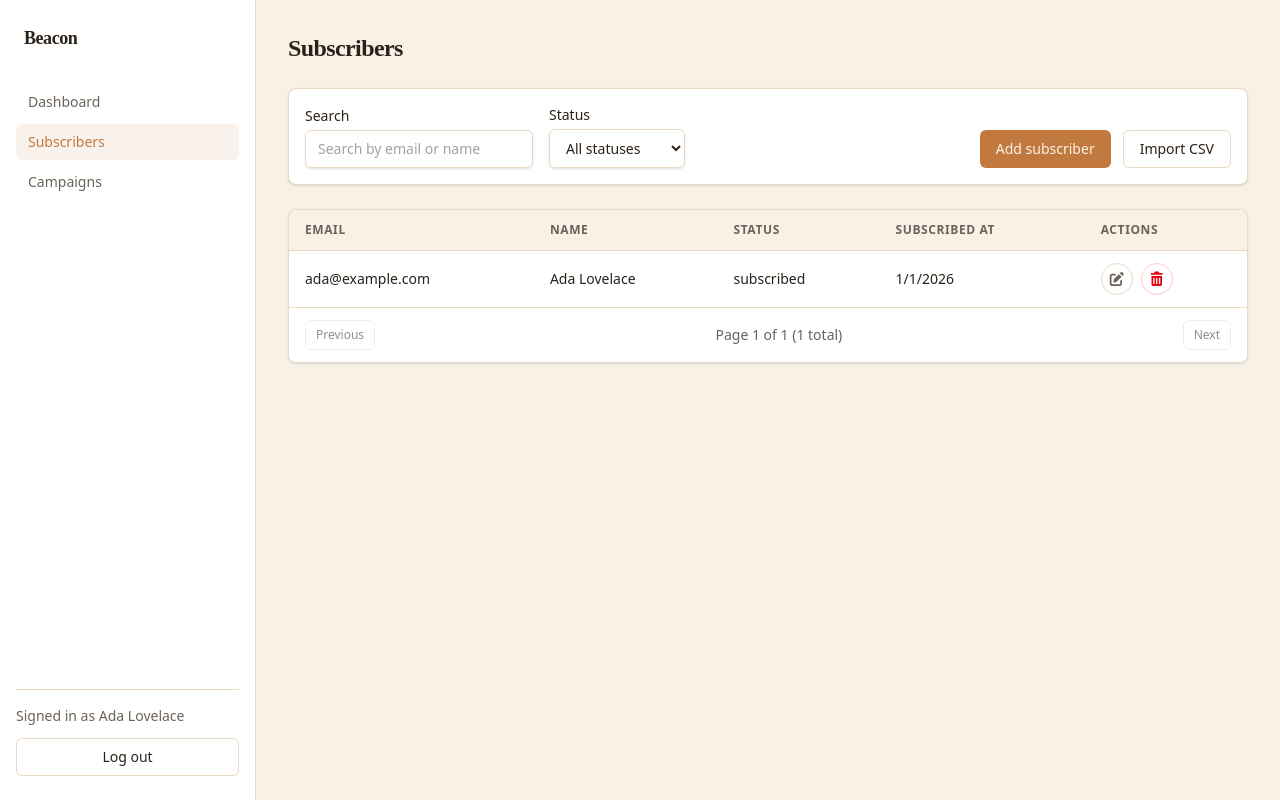
Test: SubscriberListPage › requires confirmation before deleting a subscriber
Check: the text "ada@example.com" is shown, box [289,250,534,307]
Click the button named "Delete" at (1157, 279), box [1141,263,1173,295]
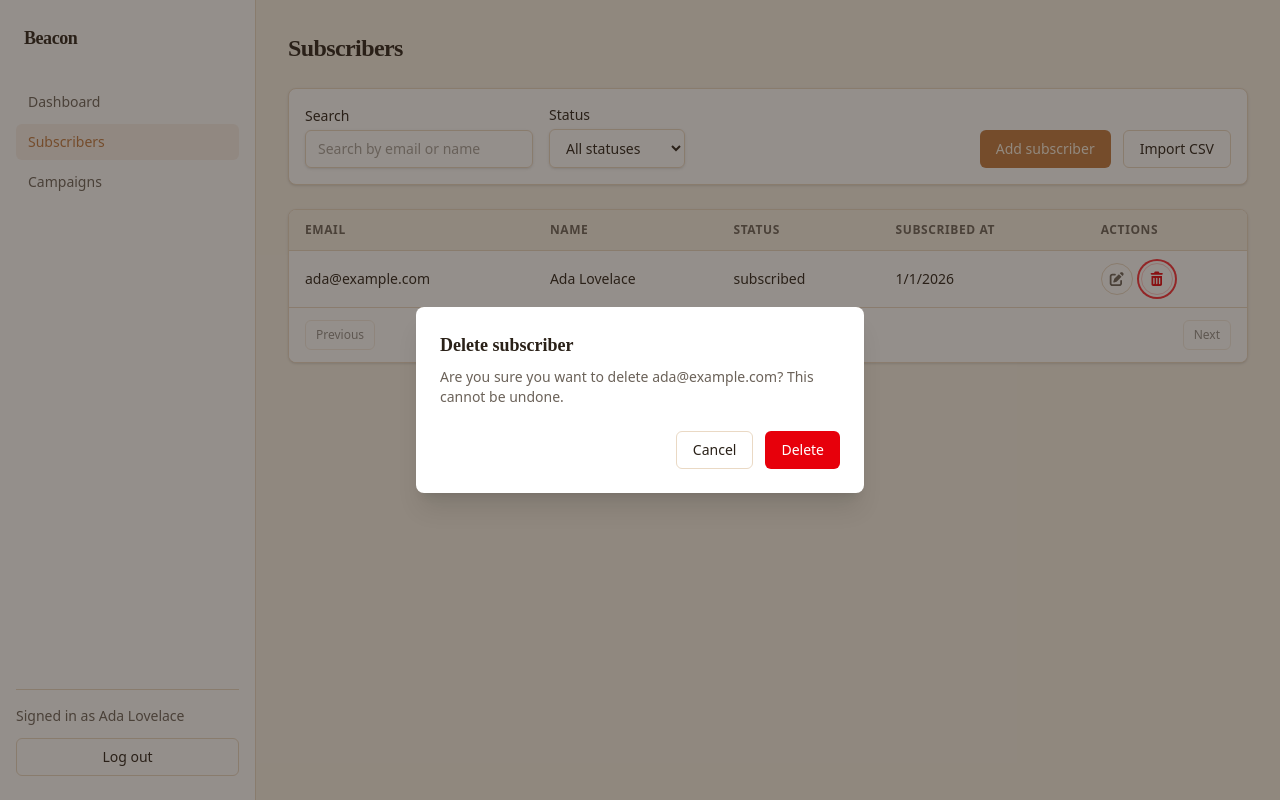
Click the button "Cancel" at (715, 450), box [676,431,753,469]
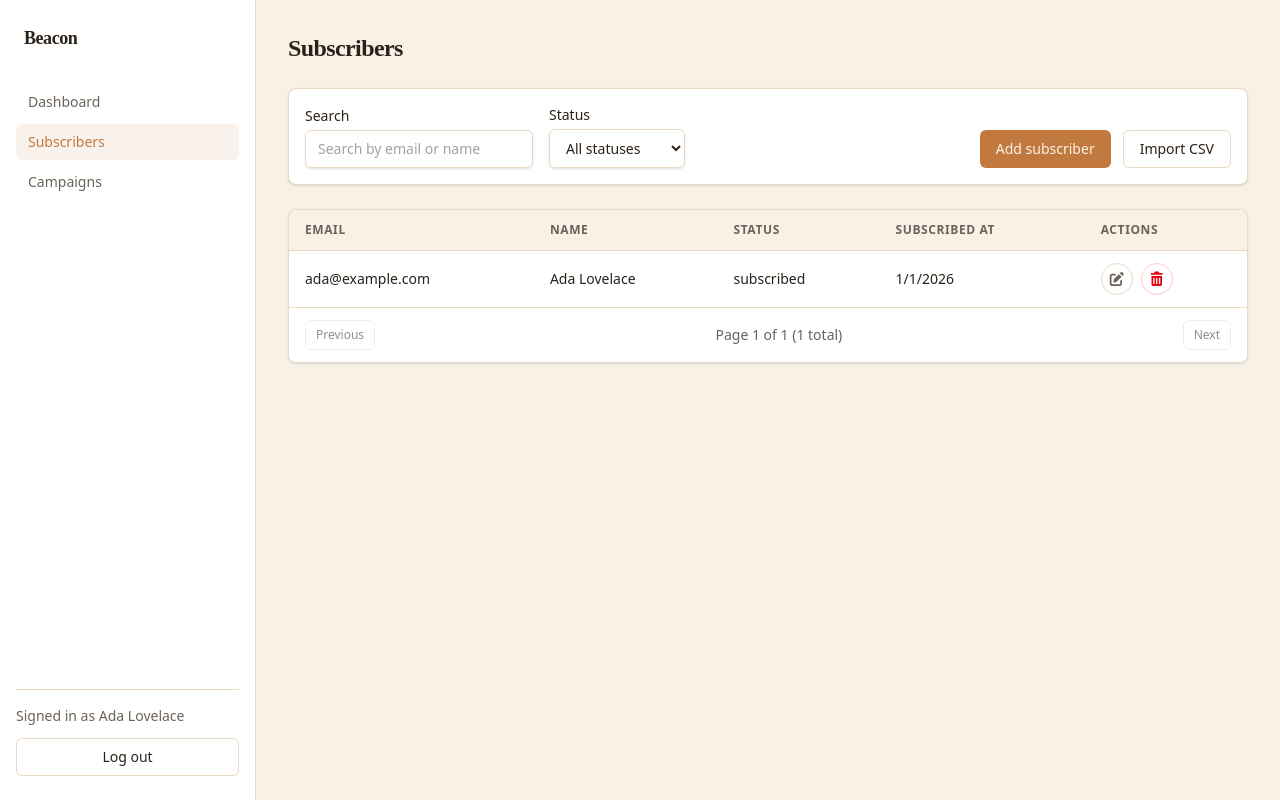
Check: the text "ada@example.com" is shown, box [289,250,534,307]
Check: the dialog is gone
Click the button named "Delete" at (1157, 279), box [1141,263,1173,295]
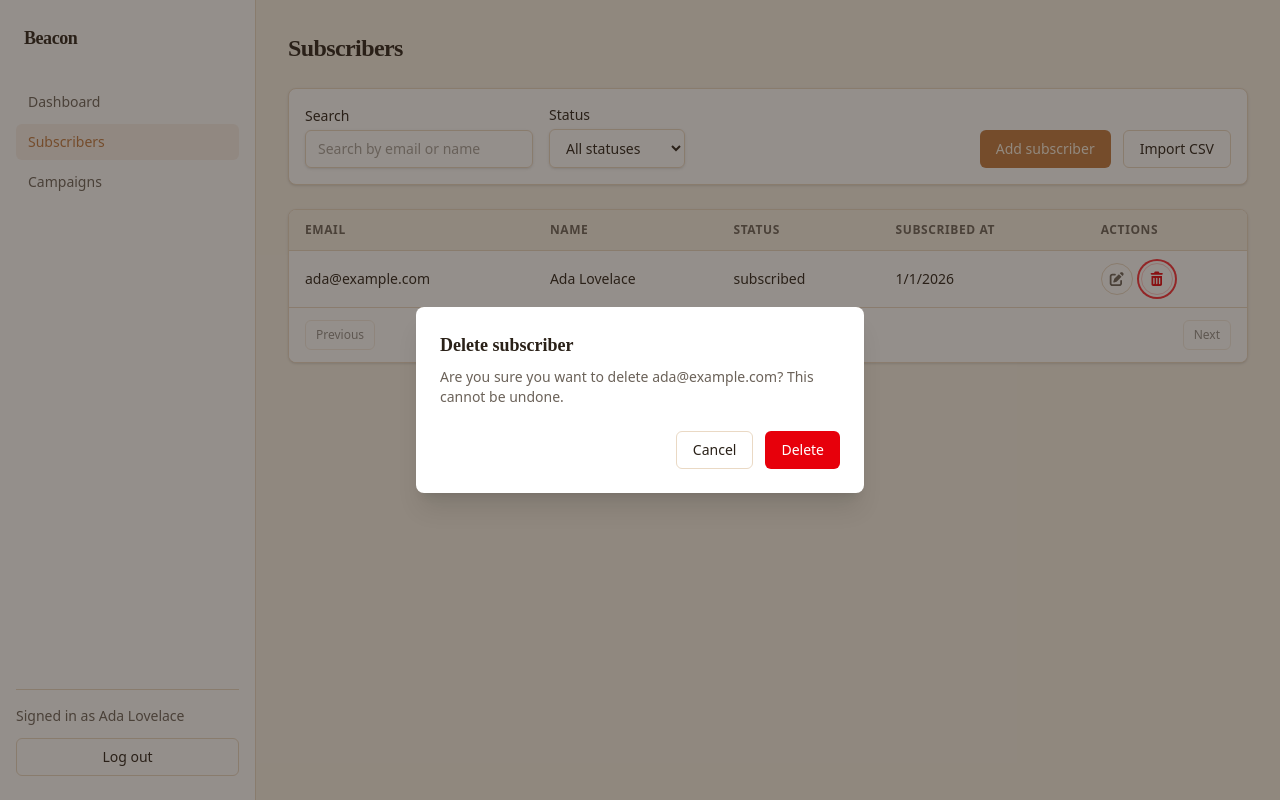
Click the button "Delete" at (803, 450), box [765,431,840,469]
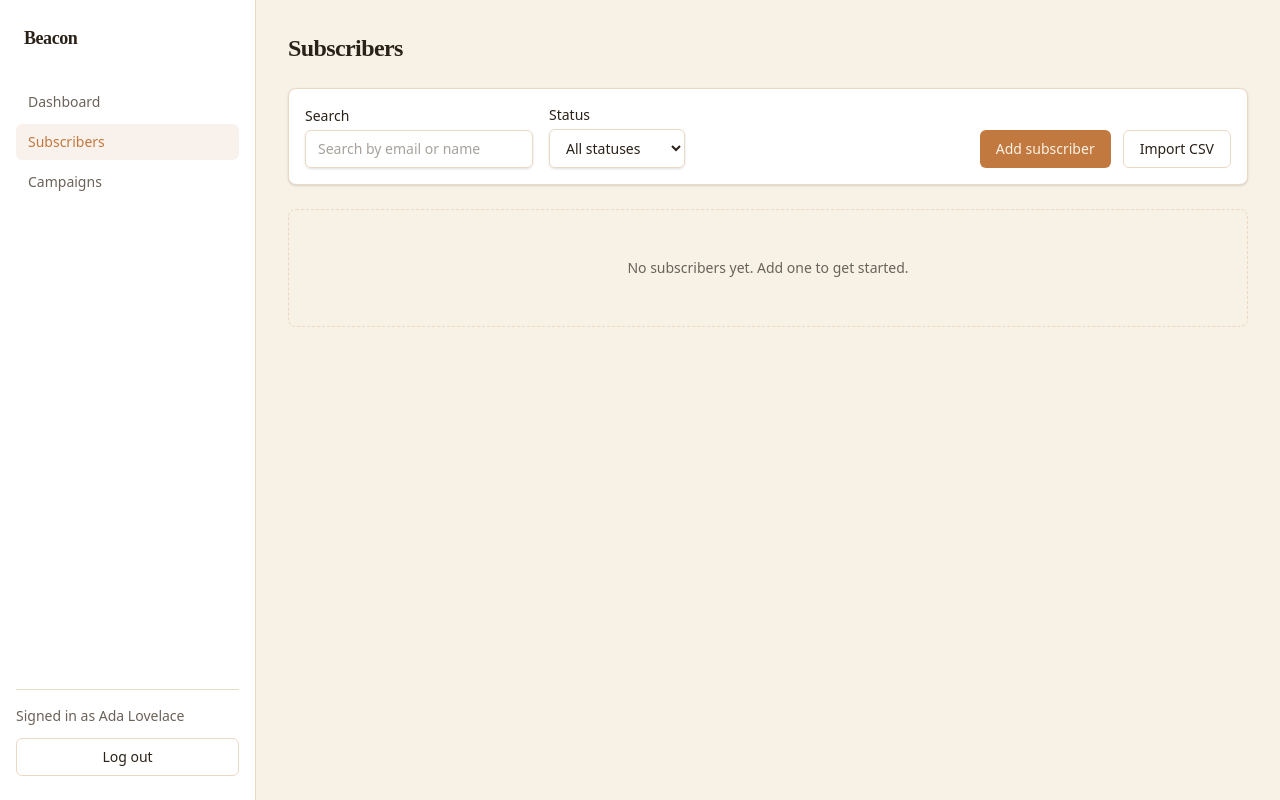
Check: the text "No subscribers yet. Add one to get started." is shown, box [627,258,909,277]
